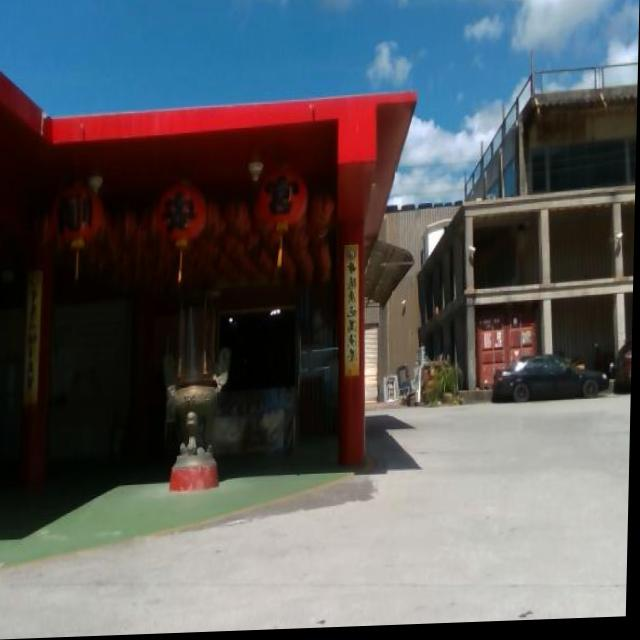pollute: (381, 348, 447, 410)
